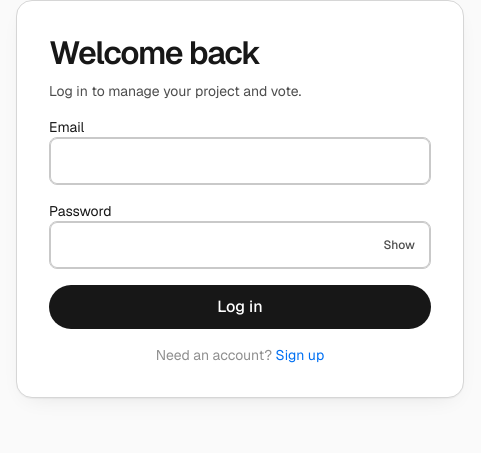
Test: AuthForm › signs in with a sanitized redirect and maps provider errors
In the field labelled "Email": (240, 161) left=49, top=137, right=431, bottom=185, type "ada@example.com"
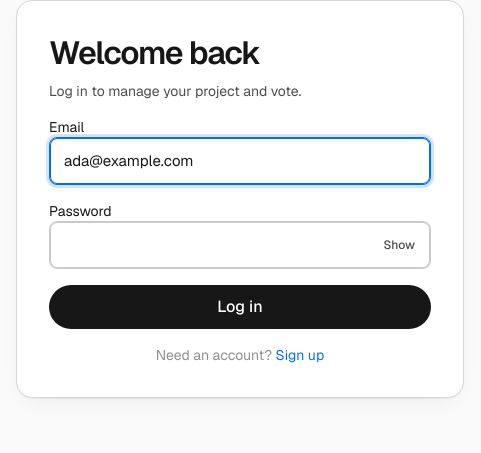
In the password field labelled "Password": (240, 245) left=49, top=221, right=431, bottom=269, type "secret1"
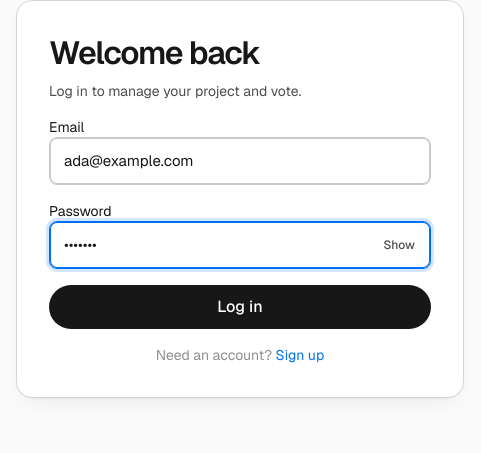
Click the button "Log in": (240, 307) left=49, top=285, right=431, bottom=329
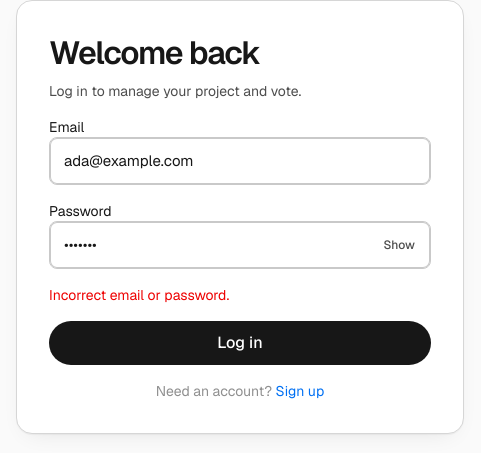
Result: the message reads "Incorrect email or password." at left=49, top=286, right=229, bottom=304
